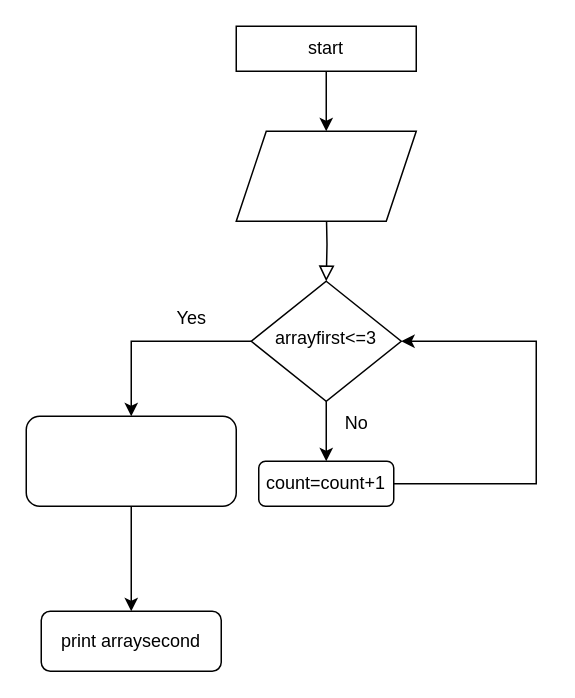
Image size: 575x698. Some labels were removed from this diagram. Each missing label, with the centre of its shape:
"arrayfirst count=0" goes at (x=325, y=175).
"arrayfirst=arraysecond" goes at (x=130, y=460).
